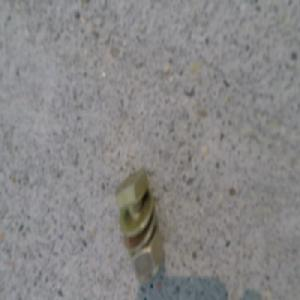BoltNutSet: (116, 169, 164, 275)
